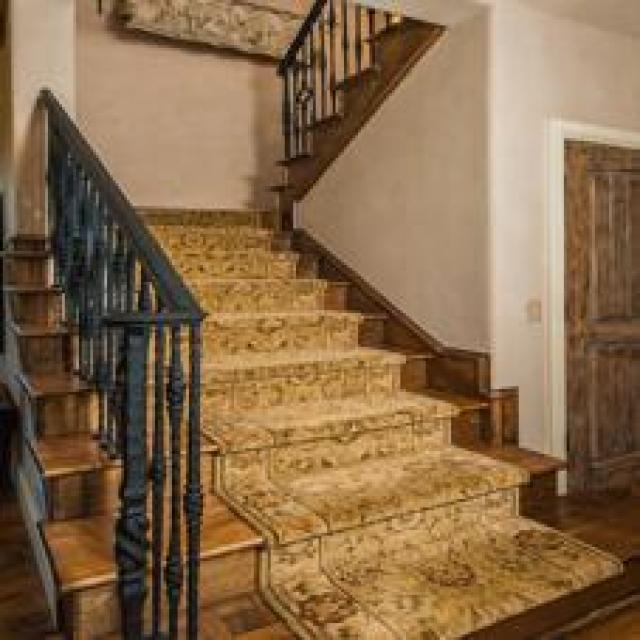upstair: (241, 430, 638, 638)
